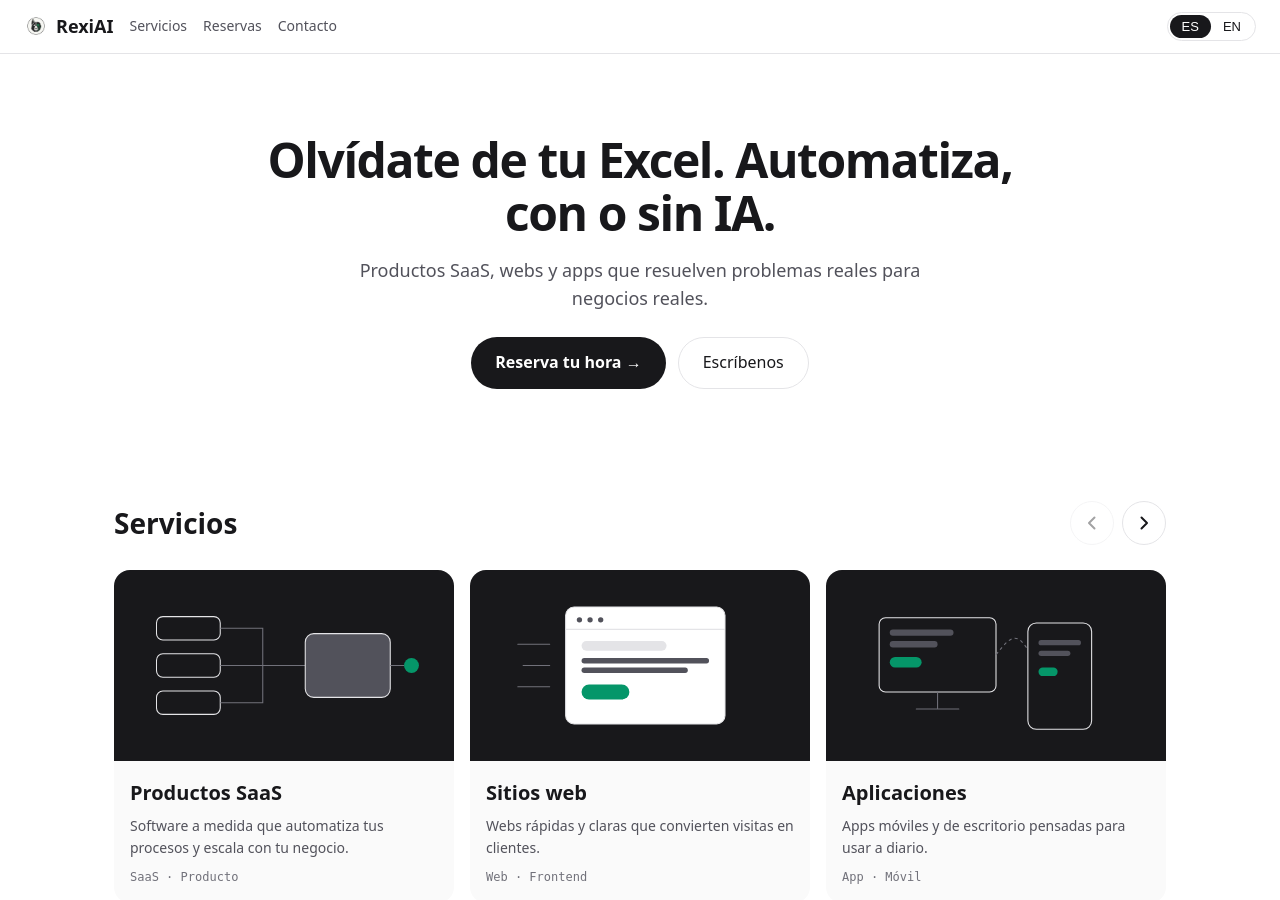
Test: AC-001 › AC-001-02: Switching to English
// find EN button and click
Click the button "EN".
click(1232, 26)  # box [1211,15,1253,38]
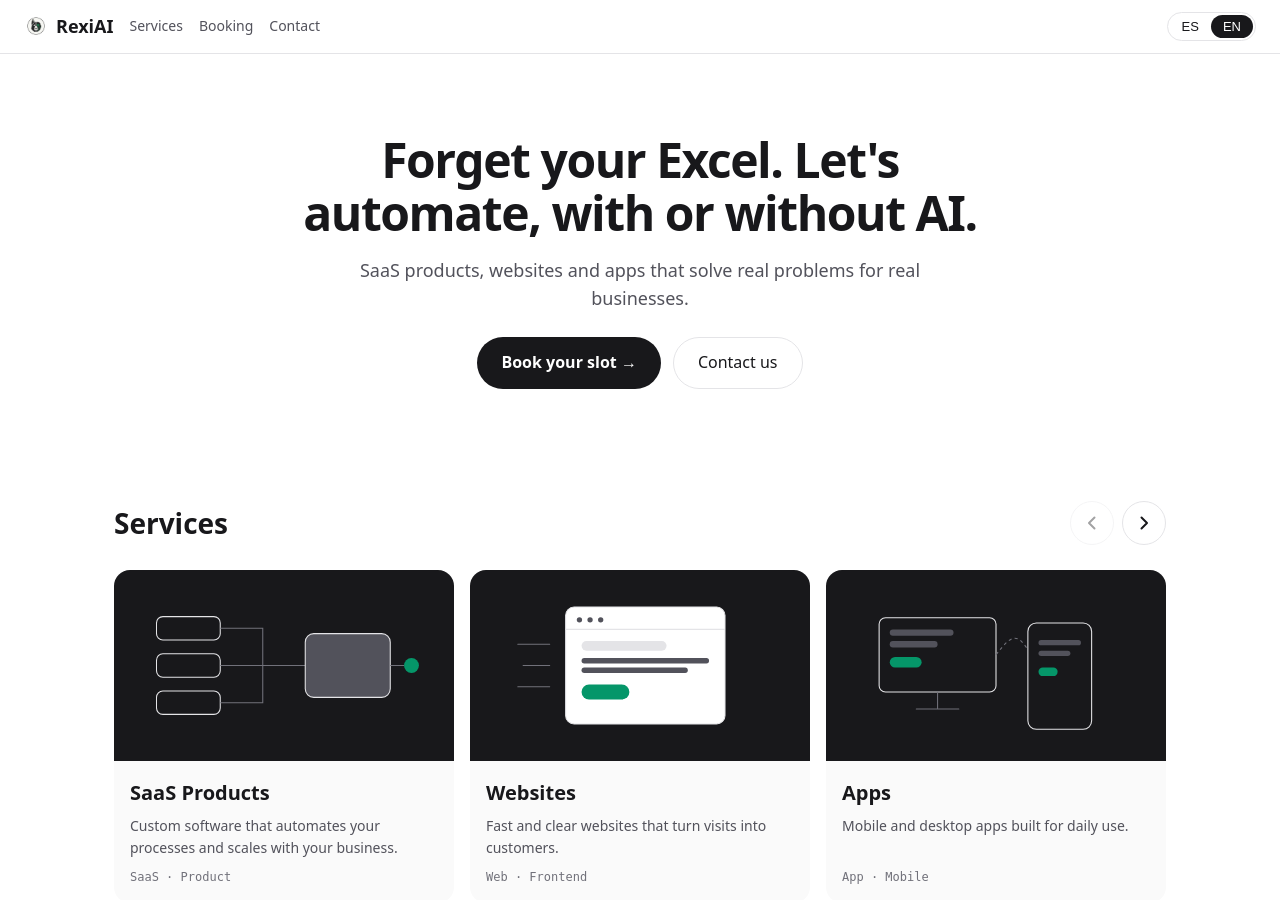
Expected: the heading "Forget your Excel. Let's automate, with or without AI." is shown, [264,134,1016,240]
Expected: the heading "Olvídate de tu Excel. Automatiza, con o sin IA." is gone
